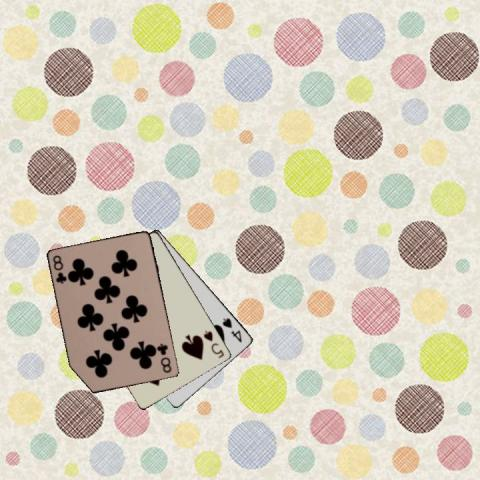4s: (220, 315, 244, 344)
5s: (201, 328, 225, 360)
8c: (155, 340, 173, 374), (50, 252, 68, 285)
